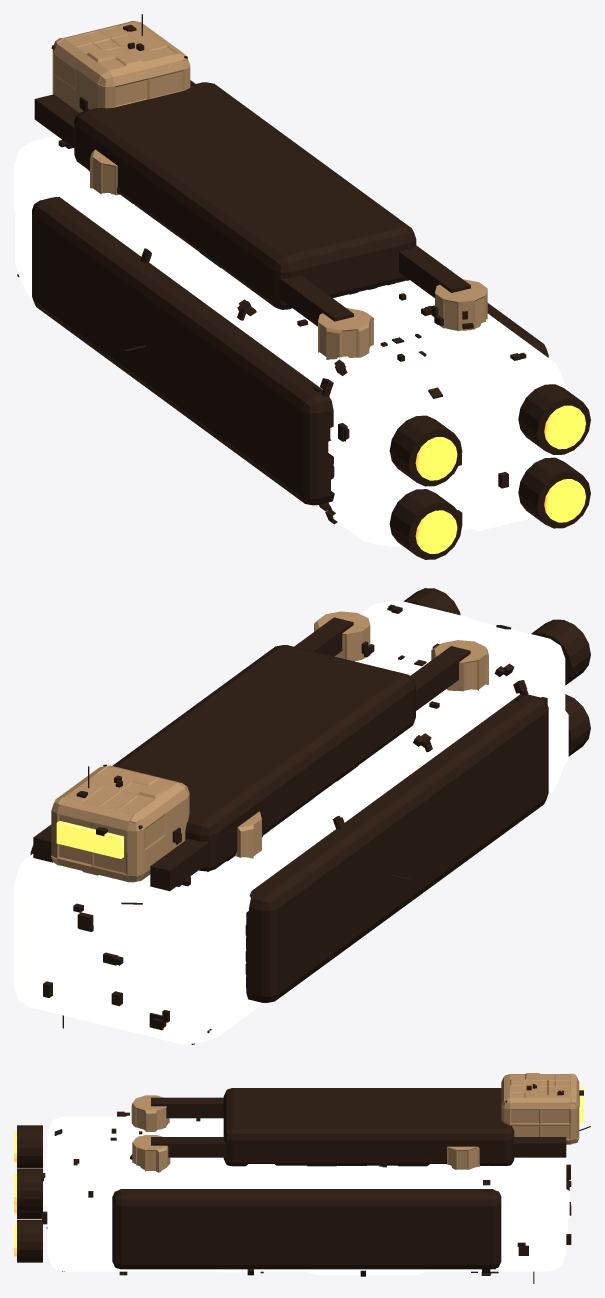
Rendered from gorrath_small.glb.
3 renders of one model, top to bottom at view 1: azimuth 30°, elevation 25°; view 2: azimuth 150°, elevation 25°; view 3: azimuth 270°, elevation 25°, orthographic. The views are drawn at different scales.
Parts seen in each view (by area): view 1: gorrath_small; view 2: gorrath_small; view 3: gorrath_small.
Part boxes in pixels (x1=…): gorrath_small: x1=14, y1=14, x2=590, y2=559; gorrath_small: x1=14, y1=588, x2=590, y2=1044; gorrath_small: x1=14, y1=1073, x2=590, y2=1283.
Size of the model in its own units: 3.72 by 3.77 by 10.12.
